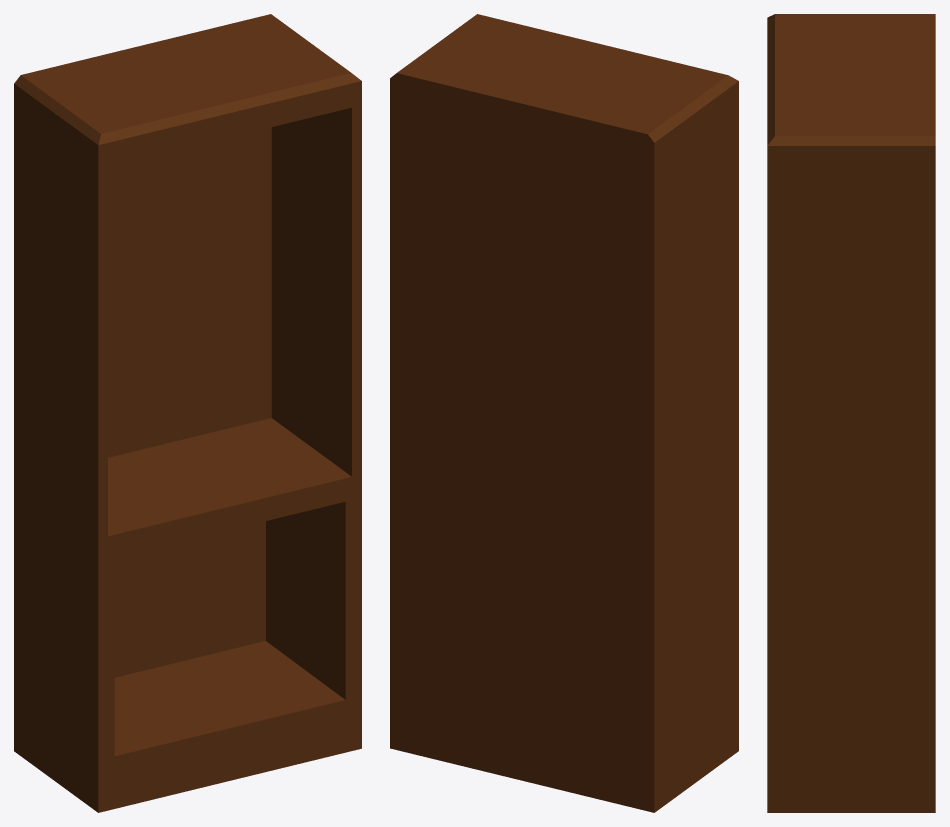
Rendered from Cabinet_Scale_Down.fbx.
3 views of the same model, side by side, from view 1: azimuth 30°, elevation 25°; view 2: azimuth 150°, elevation 25°; view 3: azimuth 270°, elevation 25° (orthographic).
Visible parts, largest first — view 1: polySurface16; view 2: polySurface16; view 3: polySurface16.
Part boxes in pixels (x1,y1,x2,y2): polySurface16: [14, 14, 361, 812]; polySurface16: [390, 14, 738, 812]; polySurface16: [767, 14, 935, 812].
Size of the model in its own units: 7.69 by 18.82 by 4.26.
